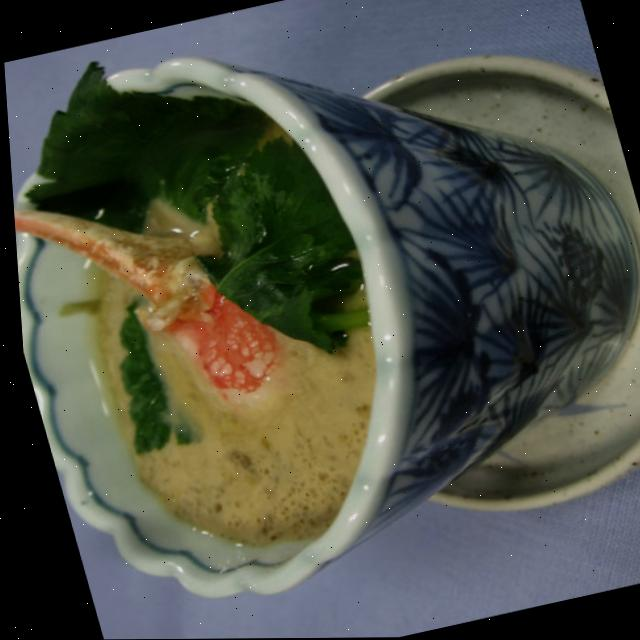鸡蛋料理: (0, 0, 640, 621)
